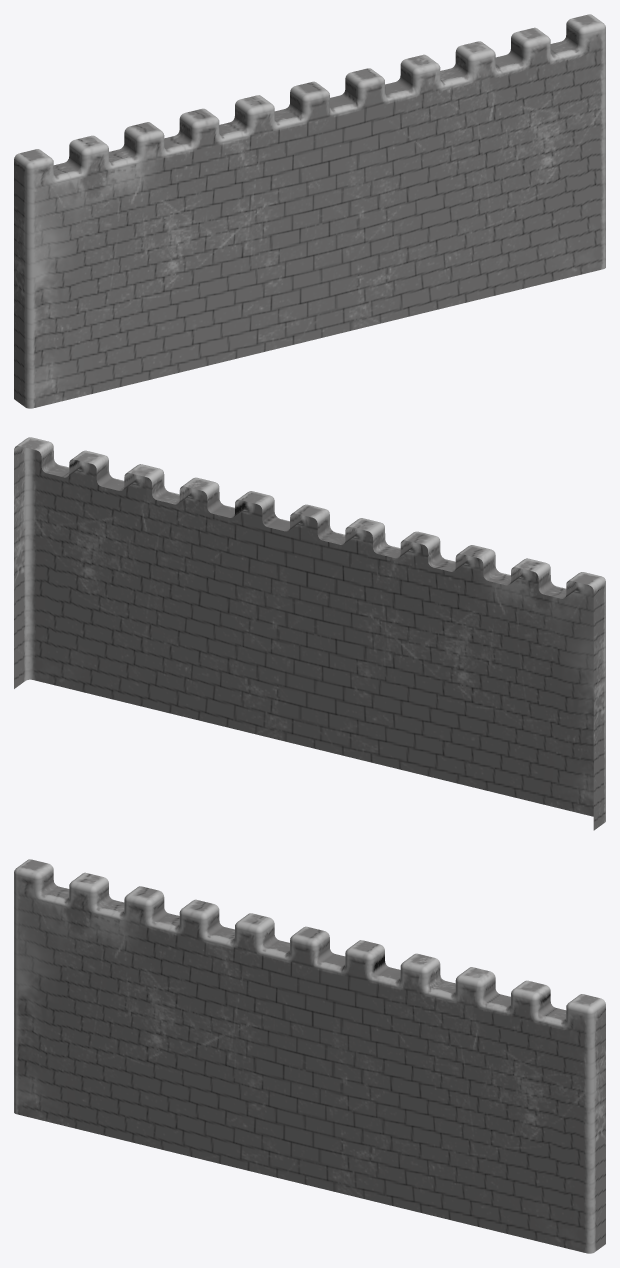
The model's file is Wall.fbx.
The picture shows the model from 3 angles, top to bottom: view 1: azimuth 30°, elevation 25°; view 2: azimuth 150°, elevation 25°; view 3: azimuth 330°, elevation 25°; orthographic projection.
Visible parts, largest first — view 1: wall; view 2: wall; view 3: wall.
Part boxes in pixels (x1,y1,x2,y2): wall: (14,14,605,408); wall: (14,437,605,830); wall: (14,859,605,1253).
Size of the model in its own units: 23.4 by 9.43 by 1.
